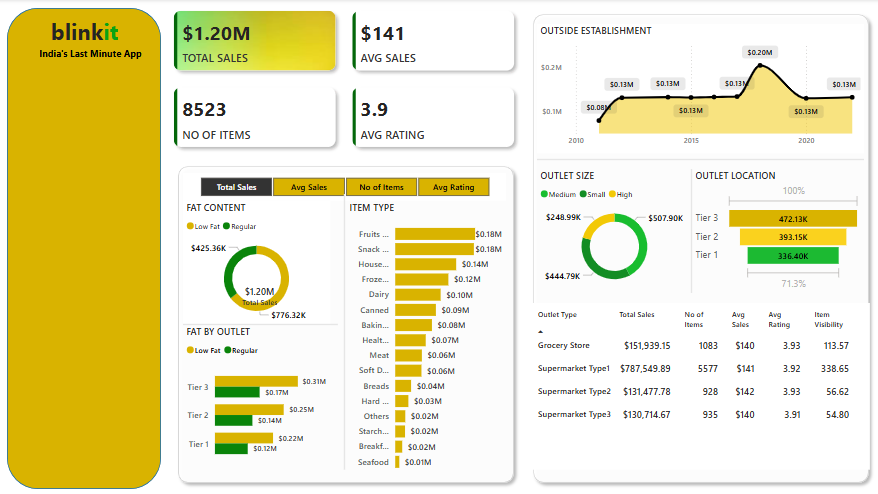

This screenshot's page, from the dashboard's own definition file:
{"tool":"powerbi","page":{"name":"Page 1","canvas":[1280,720],"ordinal":0},"visuals":[{"type":"shape","box":[21,0,223,721],"z":0},{"type":"textbox","box":[38.9,64.8,205.9,31.7],"z":1000},{"type":"textbox","box":[21.6,18.7,223.2,77.8],"z":2000},{"type":"cardVisual","fields":{"Data":["BlinkIT Grocery Data.Total Sales","BlinkIT Grocery Data.Avg Sales","BlinkIT Grocery Data.No of Items","BlinkIT Grocery Data.Avg Rating"]},"box":[244.8,0,525.6,231.8],"z":3000},{"type":"shape","box":[259.2,231.8,501.1,473.8],"z":4000},{"type":"donutChart","title":"FAT CONTENT","fields":{"Y":["BlinkIT Grocery Data.Total Sales"],"Category":["BlinkIT Grocery Data.Item Fat Content"]},"box":[275,290.9,211.7,178.6],"z":5000},{"type":"slicer","fields":{"Values":["Metrics.Metrics"]},"box":[275,250.6,465.1,40.3],"z":6000},{"type":"cardVisual","fields":{"Data":["BlinkIT Grocery Data.Total Sales"]},"box":[335.5,394.6,100.8,57.6],"z":7000},{"type":"clusteredBarChart","title":"FAT BY OUTLET","fields":{"Y":["BlinkIT Grocery Data.Total Sales"],"Category":["BlinkIT Grocery Data.Outlet Location Type"],"Series":["BlinkIT Grocery Data.Item Fat Content"]},"box":[275,469.4,211.7,208.8],"z":8000},{"type":"shape","box":[275,449.3,223.2,38.9],"z":9000},{"type":"shape","box":[486.7,280.8,41.8,397.4],"z":10000},{"type":"barChart","title":"ITEM TYPE","fields":{"Y":["BlinkIT Grocery Data.Total Sales"],"Category":["BlinkIT Grocery Data.Item Type"]},"box":[509.8,290.9,230.4,398.9],"z":11000},{"type":"shape","box":[770.4,13,501.1,692.6],"z":12000},{"type":"lineChart","title":"OUTSIDE ESTABLISHMENT","fields":{"Y":["BlinkIT Grocery Data.Total Sales"],"Category":["BlinkIT Grocery Data.Outlet Establishment Year"]},"box":[784.8,36,470.9,185.8],"z":13000},{"type":"shape","box":[784.8,211.7,470.9,38.9],"z":14000},{"type":"donutChart","title":"OUTLET SIZE","fields":{"Y":["BlinkIT Grocery Data.Total Sales"],"Category":["BlinkIT Grocery Data.Outlet Size"]},"box":[784.8,244.8,223.2,178.6],"z":15000},{"type":"shape","box":[986.4,244.8,41.8,178.6],"z":16000},{"type":"funnel","title":"OUTLET LOCATION","fields":{"Y":["Sum(BlinkIT Grocery Data.Sales)"],"Category":["BlinkIT Grocery Data.Outlet Location Type"]},"box":[1008,244.8,247.7,178.6],"z":17000},{"type":"pivotTable","fields":{"Rows":["BlinkIT Grocery Data.Outlet Type"],"Values":["BlinkIT Grocery Data.Total Sales","BlinkIT Grocery Data.No of Items","BlinkIT Grocery Data.Avg Sales","BlinkIT Grocery Data.Avg Rating","Sum(BlinkIT Grocery Data.Item Visibility)"]},"box":[776.2,437.8,488.2,240.5],"z":18000}]}

Visuals, with their boxes in screenshot pixels (x1, y1, x2, y2), scaled from the page's 1280x720 canvas onto the 878x494 screenshot:
shape: region(14, 0, 167, 493)
textbox: region(27, 44, 168, 66)
textbox: region(15, 13, 168, 66)
cardVisual - BlinkIT Grocery Data.Total Sales x BlinkIT Grocery Data.Avg Sales: region(168, 0, 528, 159)
shape: region(178, 159, 522, 484)
"FAT CONTENT" donutChart: region(189, 200, 334, 322)
slicer - Metrics.Metrics: region(189, 172, 508, 200)
cardVisual - BlinkIT Grocery Data.Total Sales: region(230, 271, 299, 310)
"FAT BY OUTLET" clusteredBarChart: region(189, 322, 334, 465)
shape: region(189, 308, 342, 335)
shape: region(334, 193, 363, 465)
"ITEM TYPE" barChart: region(350, 200, 508, 473)
shape: region(528, 9, 872, 484)
"OUTSIDE ESTABLISHMENT" lineChart: region(538, 25, 861, 152)
shape: region(538, 145, 861, 172)
"OUTLET SIZE" donutChart: region(538, 168, 691, 290)
shape: region(677, 168, 705, 290)
"OUTLET LOCATION" funnel: region(691, 168, 861, 290)
pivotTable - BlinkIT Grocery Data.Outlet Type x BlinkIT Grocery Data.Total Sales: region(532, 300, 867, 465)
